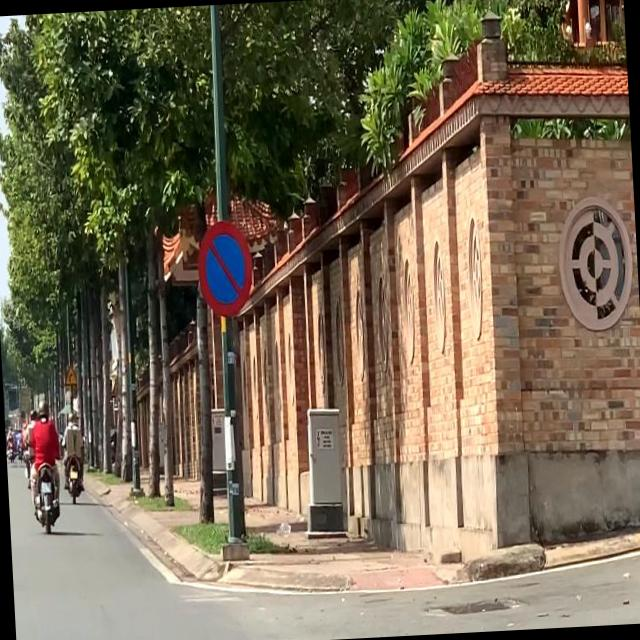P-131a: (194, 222, 253, 318)
